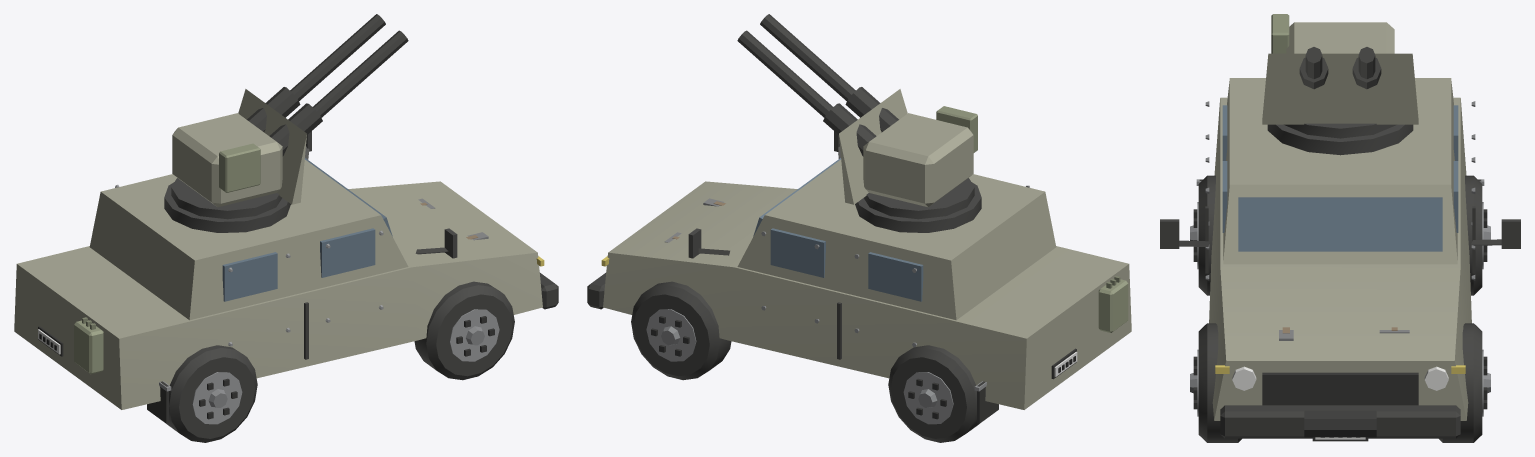
The model's file is ajeep.glb.
The picture shows the model from 3 angles, left to right: view 1: azimuth 30°, elevation 25°; view 2: azimuth 150°, elevation 25°; view 3: azimuth 270°, elevation 25°; orthographic projection. The views are drawn at different scales.
Visible parts, largest first — view 1: hull, turret; view 2: hull, turret; view 3: hull, turret.
Boxes of the visible parts, x1=… form: hull: x1=14, y1=131, x2=558, y2=442; turret: x1=171, y1=14, x2=408, y2=219; hull: x1=587, y1=131, x2=1131, y2=442; turret: x1=737, y1=14, x2=977, y2=219; hull: x1=1160, y1=78, x2=1520, y2=442; turret: x1=1262, y1=14, x2=1418, y2=138.
Bounding box in the file's own units: 5.25 × 3.45 × 3.
